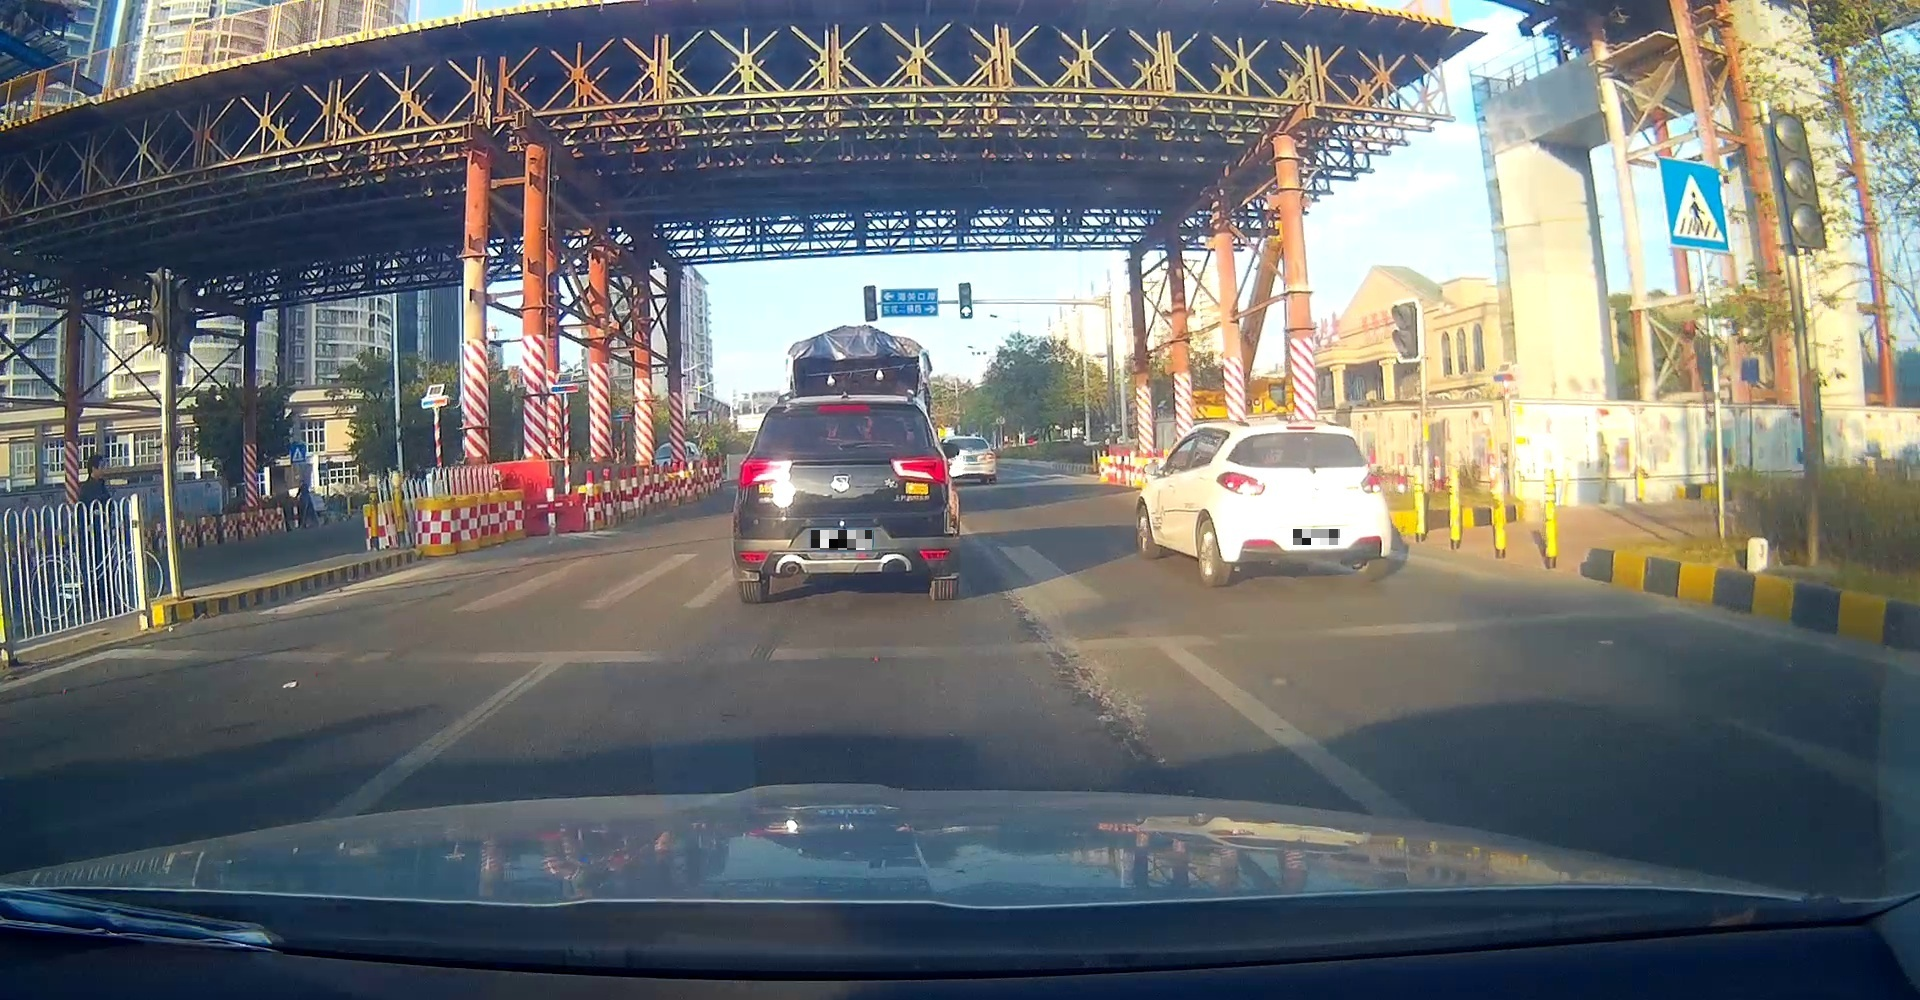L_light: (737, 458, 792, 489), (1217, 472, 1266, 496)
R_light: (889, 456, 949, 485), (1360, 472, 1382, 494)
T_light: (817, 405, 870, 414), (1286, 426, 1316, 430)
day-brake: (731, 390, 960, 604)
day-no: (1214, 420, 1392, 588)
plate_1: (811, 530, 872, 549)
plate_2: (1293, 529, 1340, 544)
